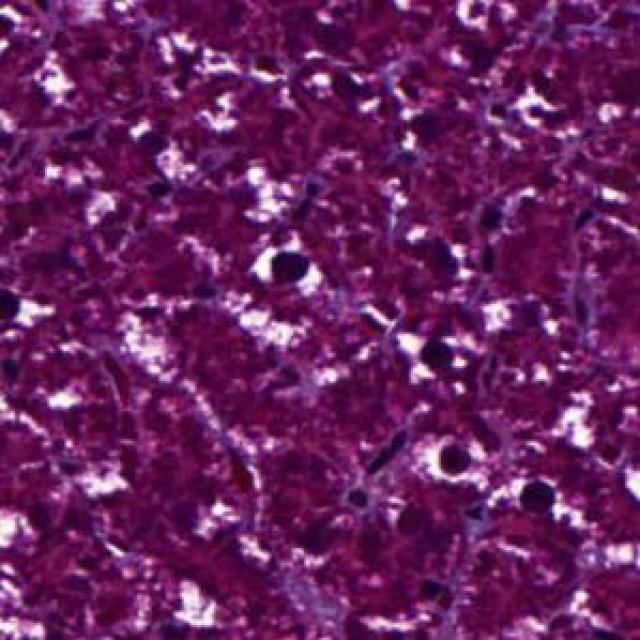inflammation: (250, 233, 324, 306), (392, 321, 471, 387), (419, 426, 498, 490), (508, 460, 568, 527)
